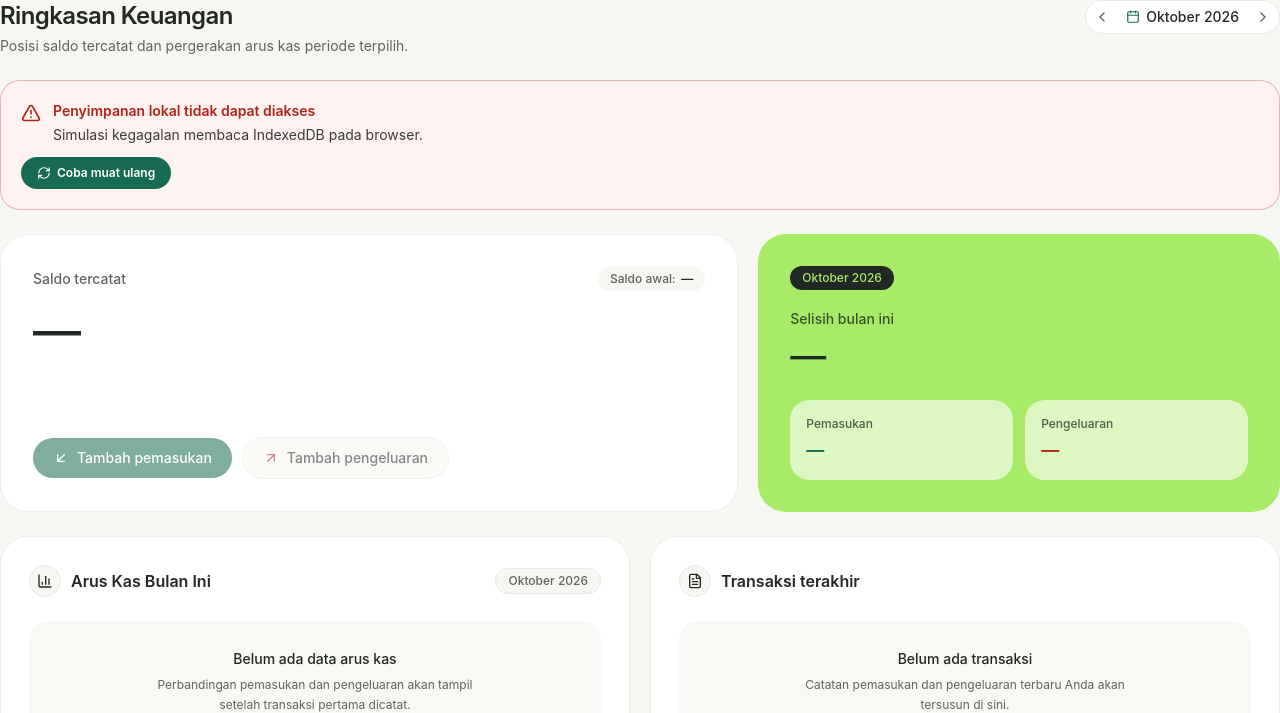
Scenario: Nota Milestone 2 — Local Persistence & First-Run Setup › surfaces storage read errors honestly without fabricating a Rp 0 balance, and recovers on retry
Expected: the message shows "Penyimpanan lokal tidak dapat diakses", top-left (53, 102), bottom-right (315, 119)
Expected: the message shows "Simulasi kegagalan membaca IndexedDB pada browser", top-left (53, 126), bottom-right (423, 143)
Click the button "Coba muat ulang" at {"x": 96, "y": 173}, box top-left (21, 157), bottom-right (171, 189)
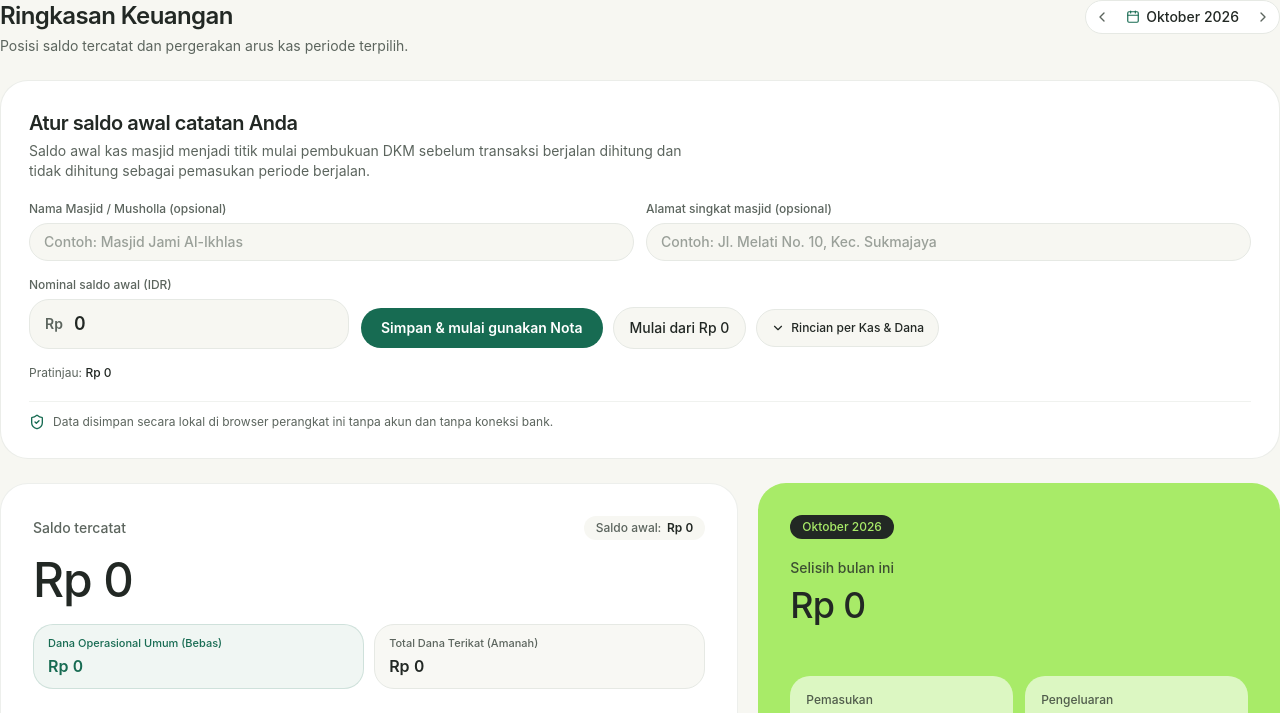
Expected: the message "Penyimpanan lokal tidak dapat diakses Simulasi kegagalan membaca IndexedDB pada" is gone
Expected: the heading "Atur saldo awal catatan Anda" is shown, top-left (29, 111), bottom-right (297, 135)
Click the button "Mulai dari Rp 0" at {"x": 679, "y": 328}, box top-left (612, 307), bottom-right (746, 349)
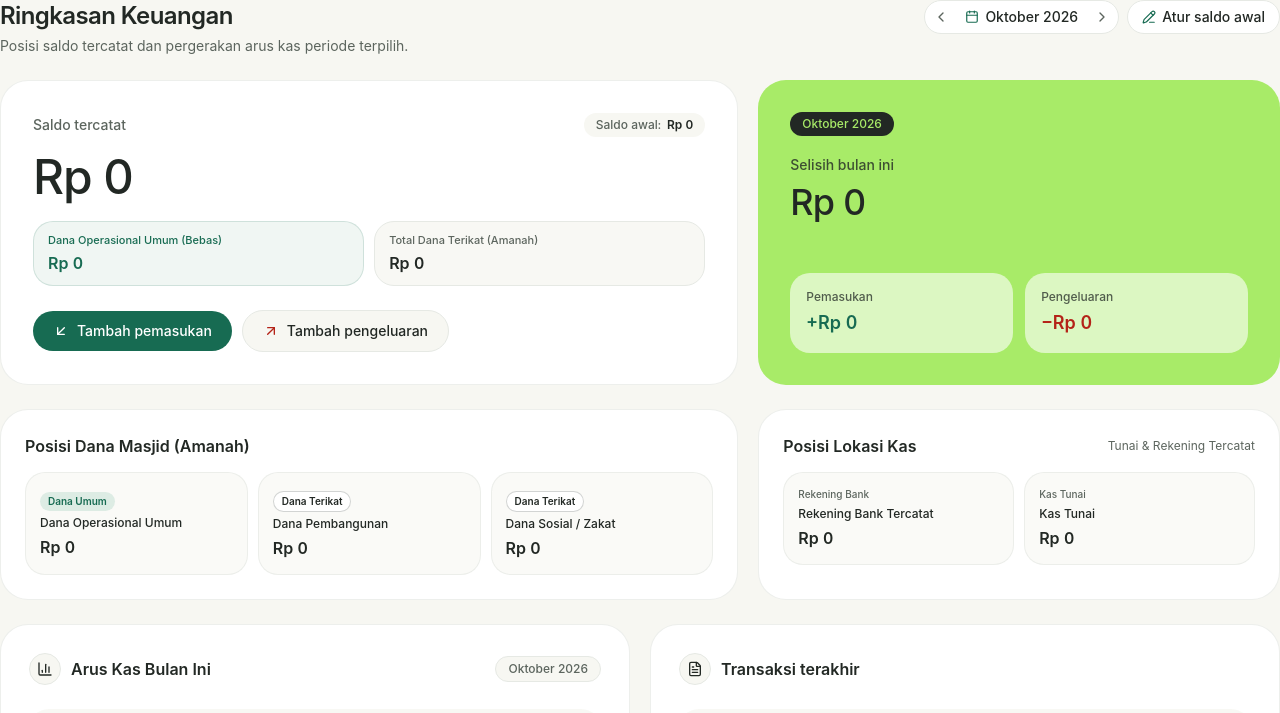
Expected: the heading "Atur saldo awal catatan Anda" is gone
